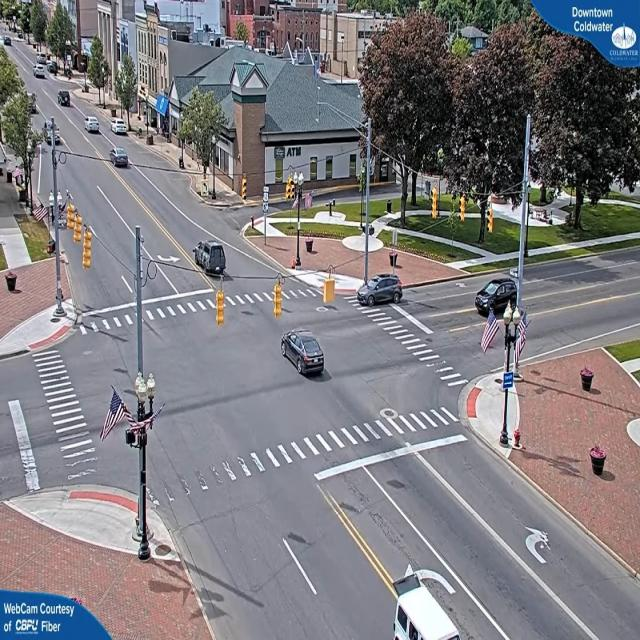car: (282, 328, 328, 376), (476, 277, 521, 313), (359, 274, 403, 306), (192, 242, 226, 278), (112, 150, 132, 170), (111, 119, 129, 136), (58, 90, 73, 108), (86, 117, 101, 134), (36, 65, 49, 78)
